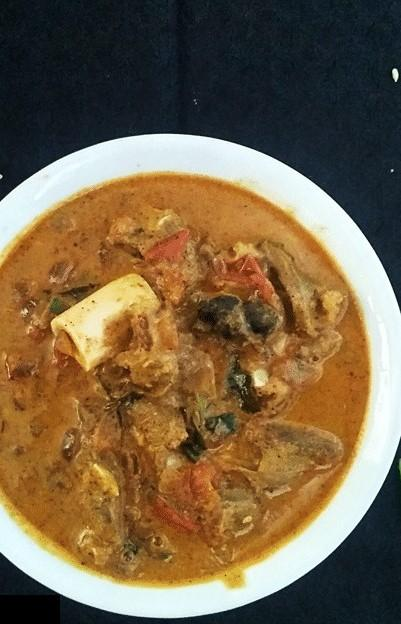MuttonCurry: (0, 172, 372, 572)
